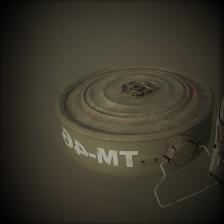TM-46: (45, 68, 224, 187)
